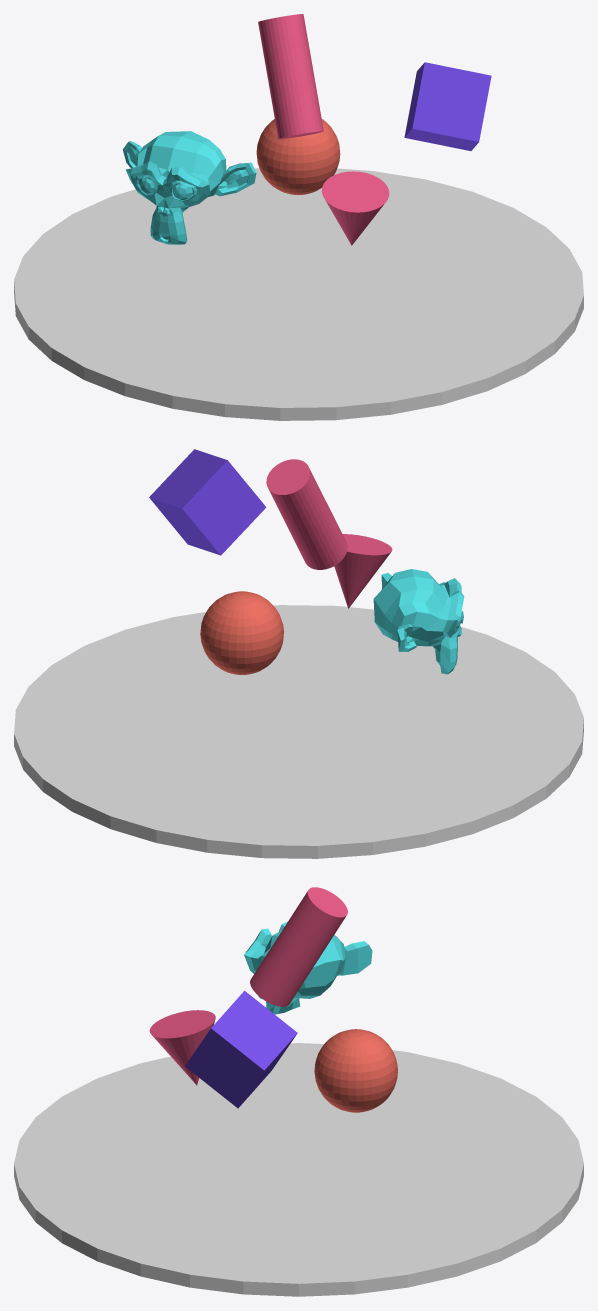
Rendered from TestScene.gltf.
The picture shows the model from 3 angles, top to bottom: view 1: azimuth 30°, elevation 25°; view 2: azimuth 150°, elevation 25°; view 3: azimuth 270°, elevation 25°; orthographic projection.
Visible parts, largest first — view 1: Cylinder, Suzanne, Cube, Cylinder.001, Sphere, Cone; view 2: Cylinder, Cube, Suzanne, Sphere, Cylinder.001, Cone; view 3: Cylinder, Cube, Cylinder.001, Sphere, Suzanne, Cone.
Boxes of the visible parts, x1,y1,x2,y2 form: Cylinder: (14,168,583,420); Suzanne: (122,131,256,244); Cube: (404,62,491,150); Cylinder.001: (258,14,323,139); Sphere: (256,119,340,194); Cone: (321,171,389,245); Cylinder: (14,605,583,858); Cube: (149,449,266,555); Suzanne: (373,569,464,674); Sphere: (200,591,283,674); Cylinder.001: (266,459,347,569); Cone: (334,534,392,608); Cylinder: (14,1043,583,1296); Cube: (185,990,297,1108); Cylinder.001: (250,887,347,1006); Sphere: (314,1029,397,1112); Suzanne: (244,921,372,1014); Cone: (149,1010,215,1085).
Bounding box in the file's own units: 8 × 4.37 × 8.
